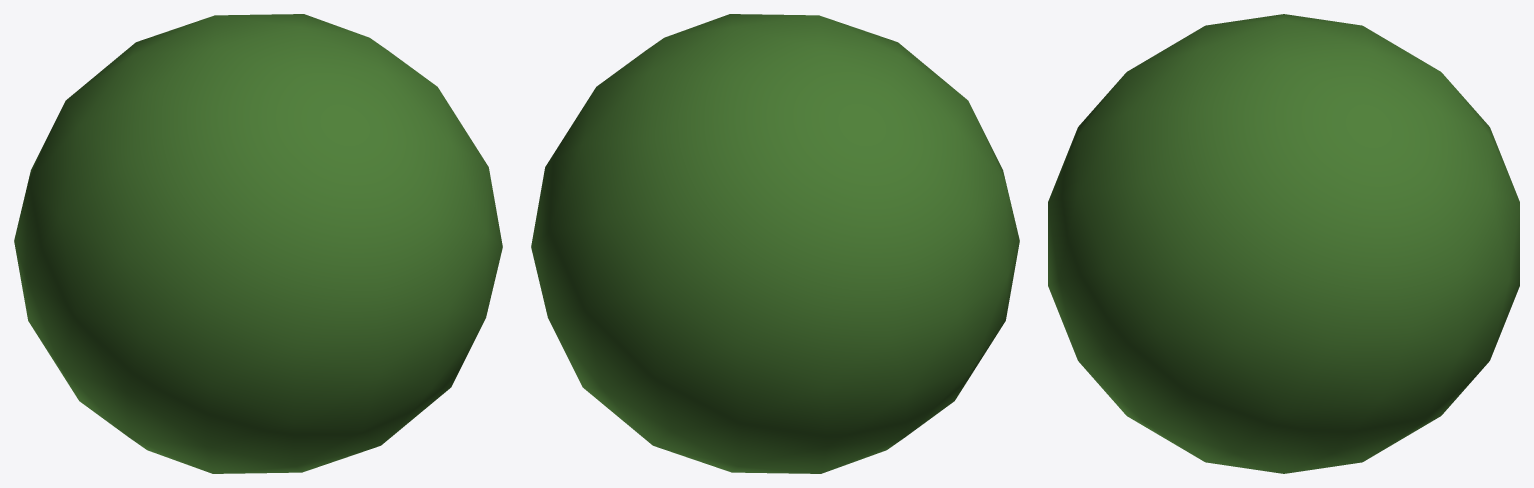
Rendered from boxwood.obj.
3 renders of one model, left to right at view 1: azimuth 30°, elevation 25°; view 2: azimuth 150°, elevation 25°; view 3: azimuth 270°, elevation 25°, orthographic.
Visible parts, largest first — view 1: boxwood_0; view 2: boxwood_0; view 3: boxwood_0.
Part boxes in pixels (x1=…): boxwood_0: x1=14, y1=14, x2=502, y2=473; boxwood_0: x1=531, y1=14, x2=1019, y2=473; boxwood_0: x1=1048, y1=14, x2=1519, y2=473.
Bounding box in the file's own units: 0.7052 × 0.67 × 0.7052.
